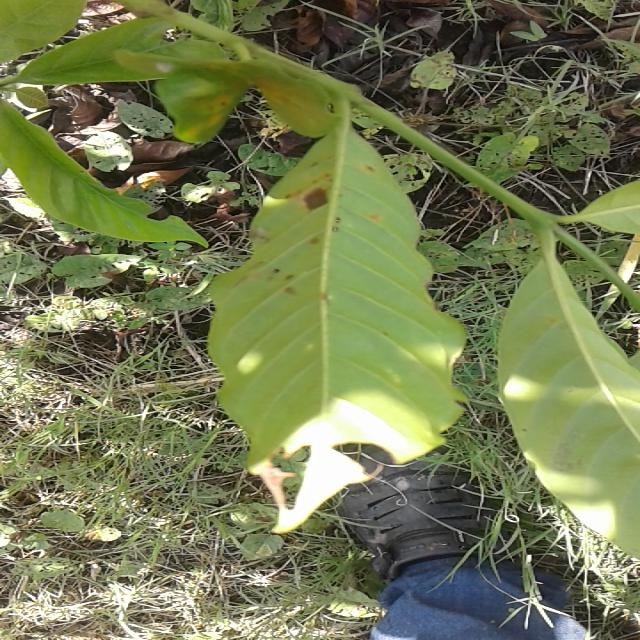Enfermedad-Roya: (207, 122, 465, 535)
